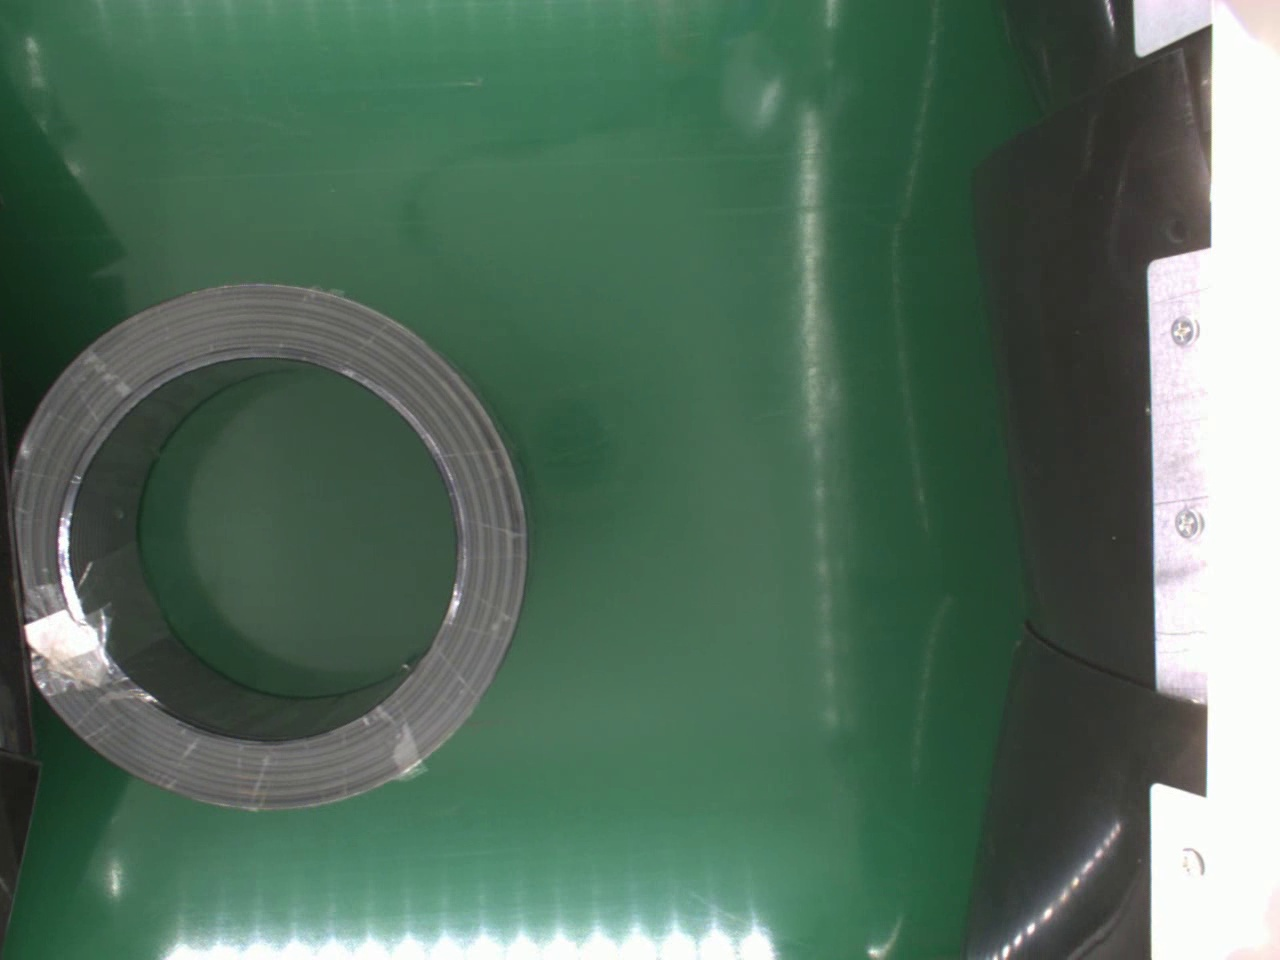black: (9, 271, 529, 835)
